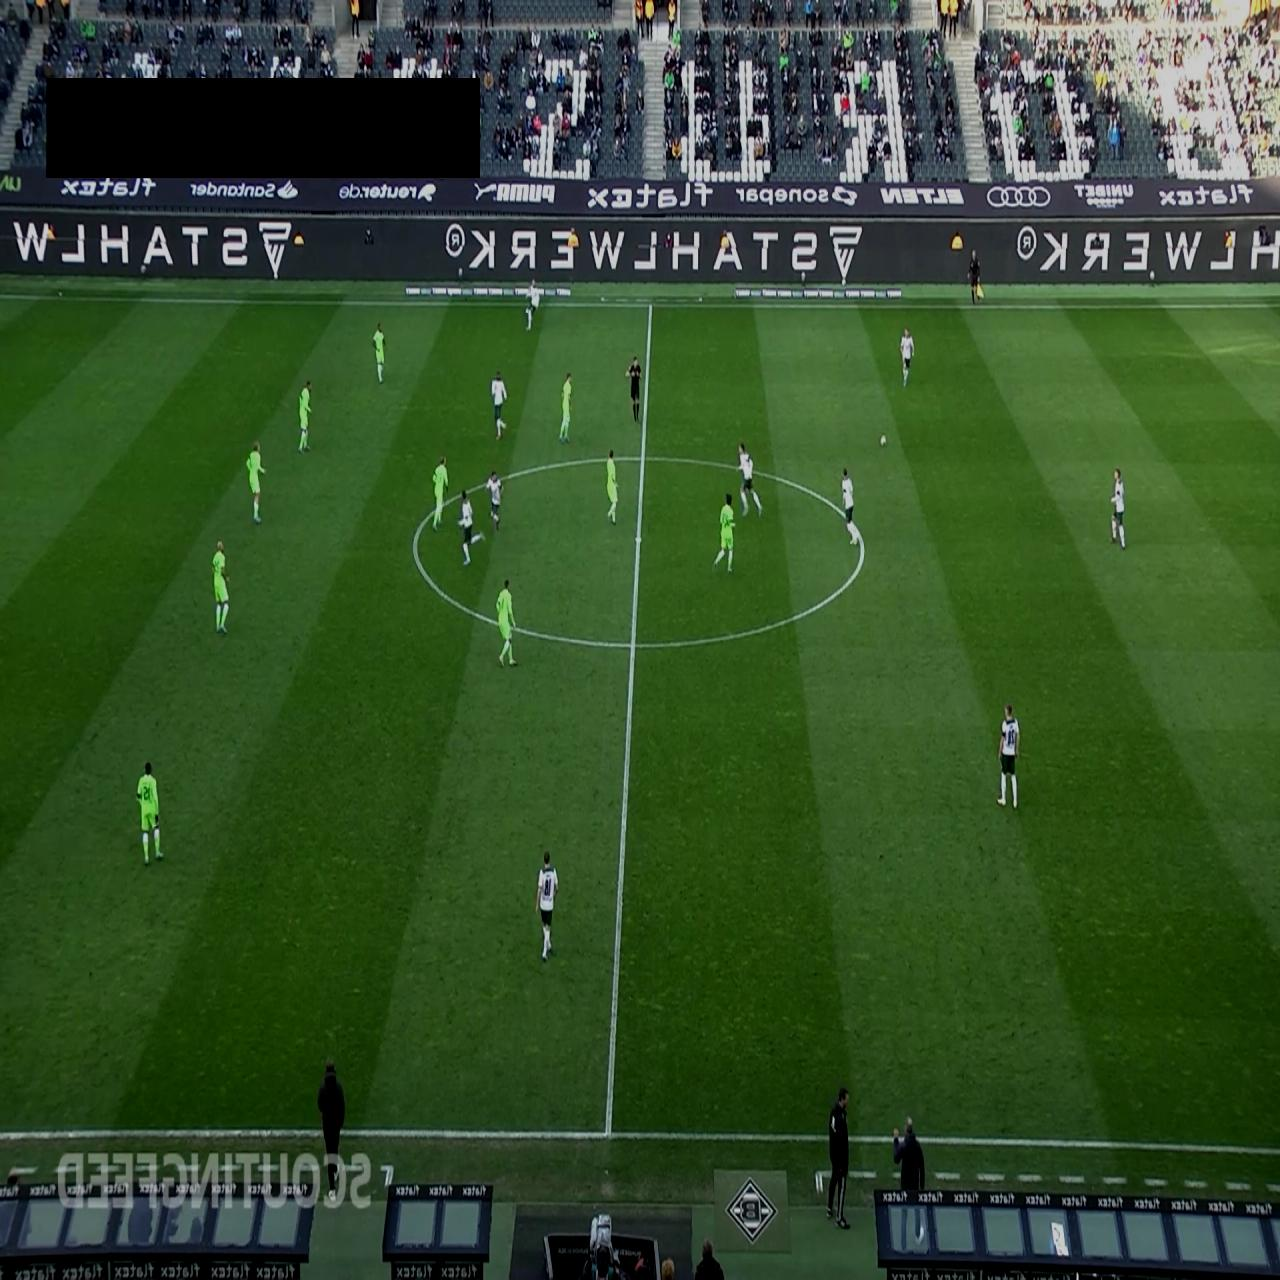ball: (880, 432, 887, 447)
player: (136, 761, 164, 864), (535, 849, 559, 961), (996, 701, 1020, 810), (736, 441, 762, 519), (496, 577, 518, 669), (712, 492, 735, 574), (212, 538, 231, 635), (246, 440, 266, 524), (841, 467, 858, 545), (1110, 467, 1126, 549), (432, 454, 449, 531), (491, 368, 508, 441), (298, 379, 314, 454), (458, 488, 473, 566), (486, 469, 504, 532), (558, 371, 572, 442), (371, 321, 387, 383), (606, 448, 619, 524), (899, 326, 915, 387), (524, 277, 540, 332)
referee: (625, 354, 641, 423), (967, 248, 984, 303)
